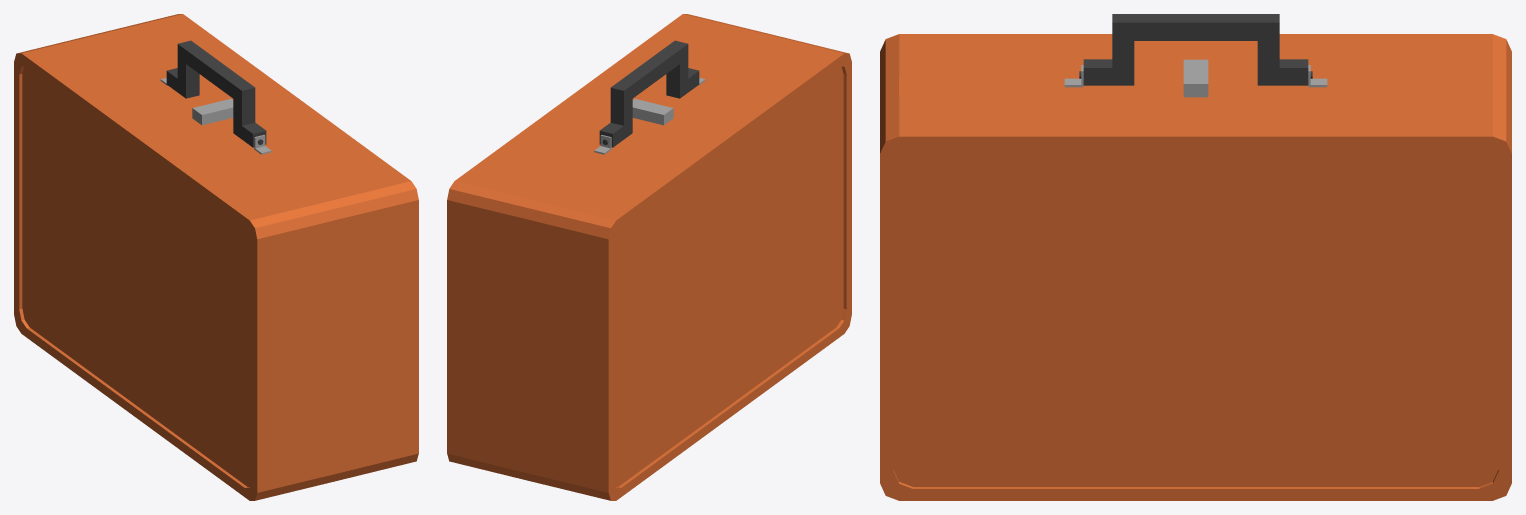
Rendered from ValijaEmergencia.fbx.
The picture shows the model from 3 angles, left to right: view 1: azimuth 30°, elevation 25°; view 2: azimuth 150°, elevation 25°; view 3: azimuth 270°, elevation 25°; orthographic projection. The views are drawn at different scales.
Visible parts, largest first — view 1: Valija; view 2: Valija; view 3: Valija.
Boxes of the visible parts, x1=… form: Valija: x1=14, y1=14, x2=418, y2=500; Valija: x1=447, y1=14, x2=851, y2=500; Valija: x1=880, y1=14, x2=1511, y2=500.
Bounding box in the file's own units: 60.45 × 119 × 157.
